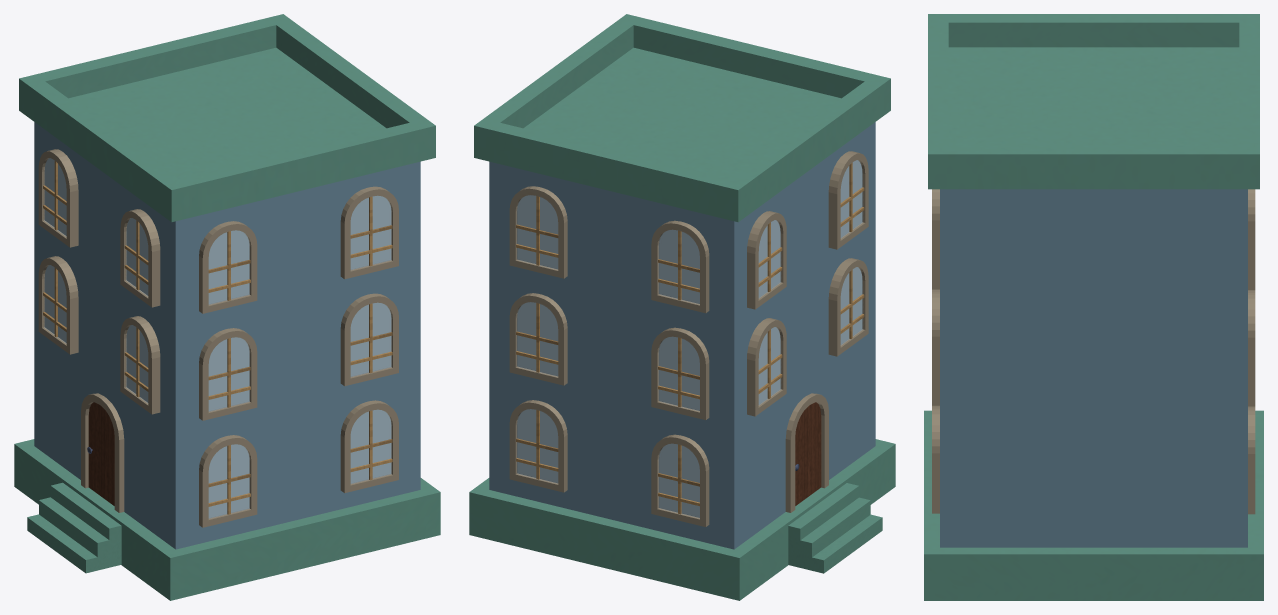
Rendered from Buildingg-004.glb.
3 views of the same model, side by side, from view 1: azimuth 30°, elevation 25°; view 2: azimuth 150°, elevation 25°; view 3: azimuth 270°, elevation 25° (orthographic). The views are drawn at different scales.
Visible parts, largest first — view 1: building-004; view 2: building-004; view 3: building-004.
Boxes of the visible parts, x1,y1,x2,y2 form: building-004: [14, 14, 440, 600]; building-004: [469, 14, 895, 600]; building-004: [924, 14, 1263, 600].
Bounding box in the file's own units: 3.06 × 3.91 × 2.71.
Materials: 1 (1 with a texture image).
